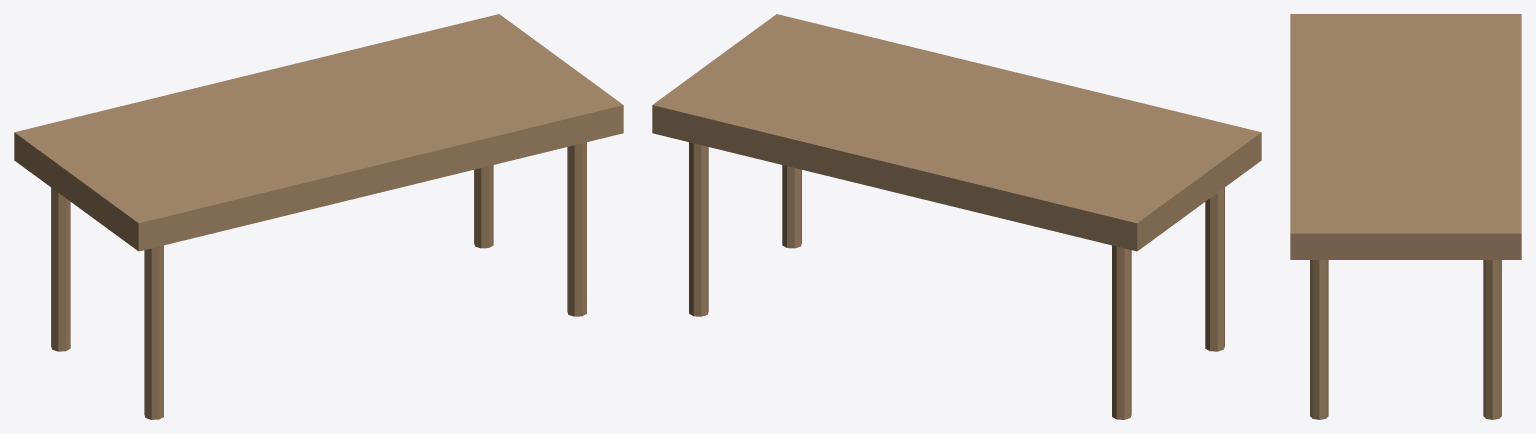
The picture shows the model from 3 angles, left to right: view 1: azimuth 30°, elevation 25°; view 2: azimuth 150°, elevation 25°; view 3: azimuth 270°, elevation 25°; orthographic projection. The views are drawn at different scales.
Visible parts, largest first — view 1: Top, Leg.4, Leg.2, Leg.1, Leg.3; view 2: Top, Leg.3, Leg.1, Leg.2, Leg.4; view 3: Top, Leg.3, Leg.4.
Boxes of the visible parts, x1,y1,x2,y2 form: Top: (14, 14, 623, 251); Leg.4: (567, 142, 586, 316); Leg.2: (144, 245, 163, 419); Leg.1: (51, 187, 70, 351); Leg.3: (474, 165, 493, 248); Top: (652, 14, 1261, 251); Leg.3: (689, 142, 708, 316); Leg.1: (1112, 245, 1131, 419); Leg.2: (1205, 187, 1224, 351); Leg.4: (782, 165, 801, 248); Top: (1290, 14, 1521, 259); Leg.3: (1483, 260, 1501, 419); Leg.4: (1310, 260, 1328, 419).
Bounding box in the file's own units: 1.8 × 0.75 × 0.8.
